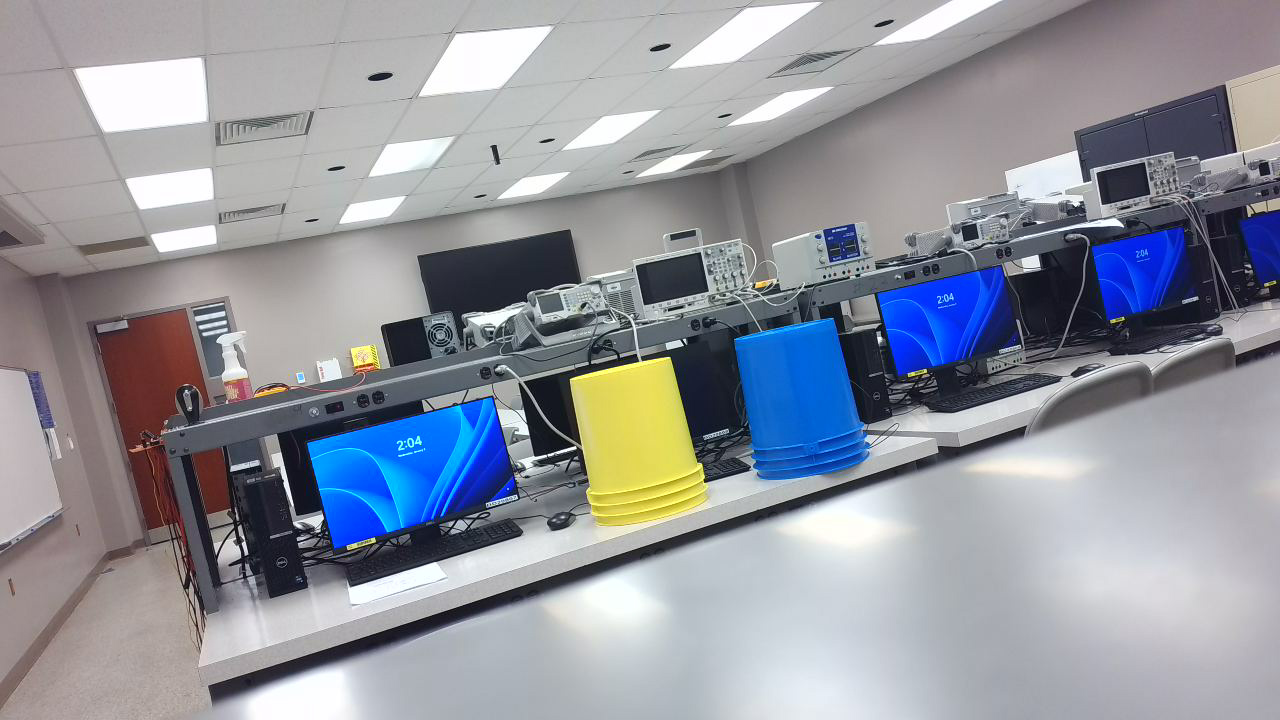blue_bucket: (734, 319, 878, 490)
yellow_bucket: (570, 357, 718, 538)
